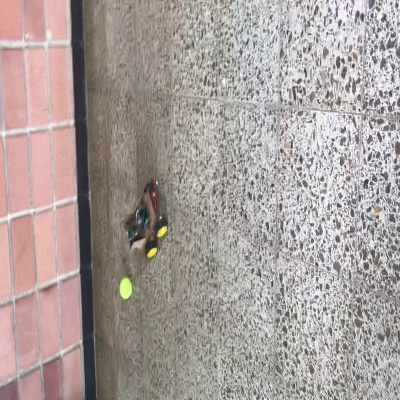Ball: (119, 278, 131, 299)
Robot: (123, 181, 167, 257)
